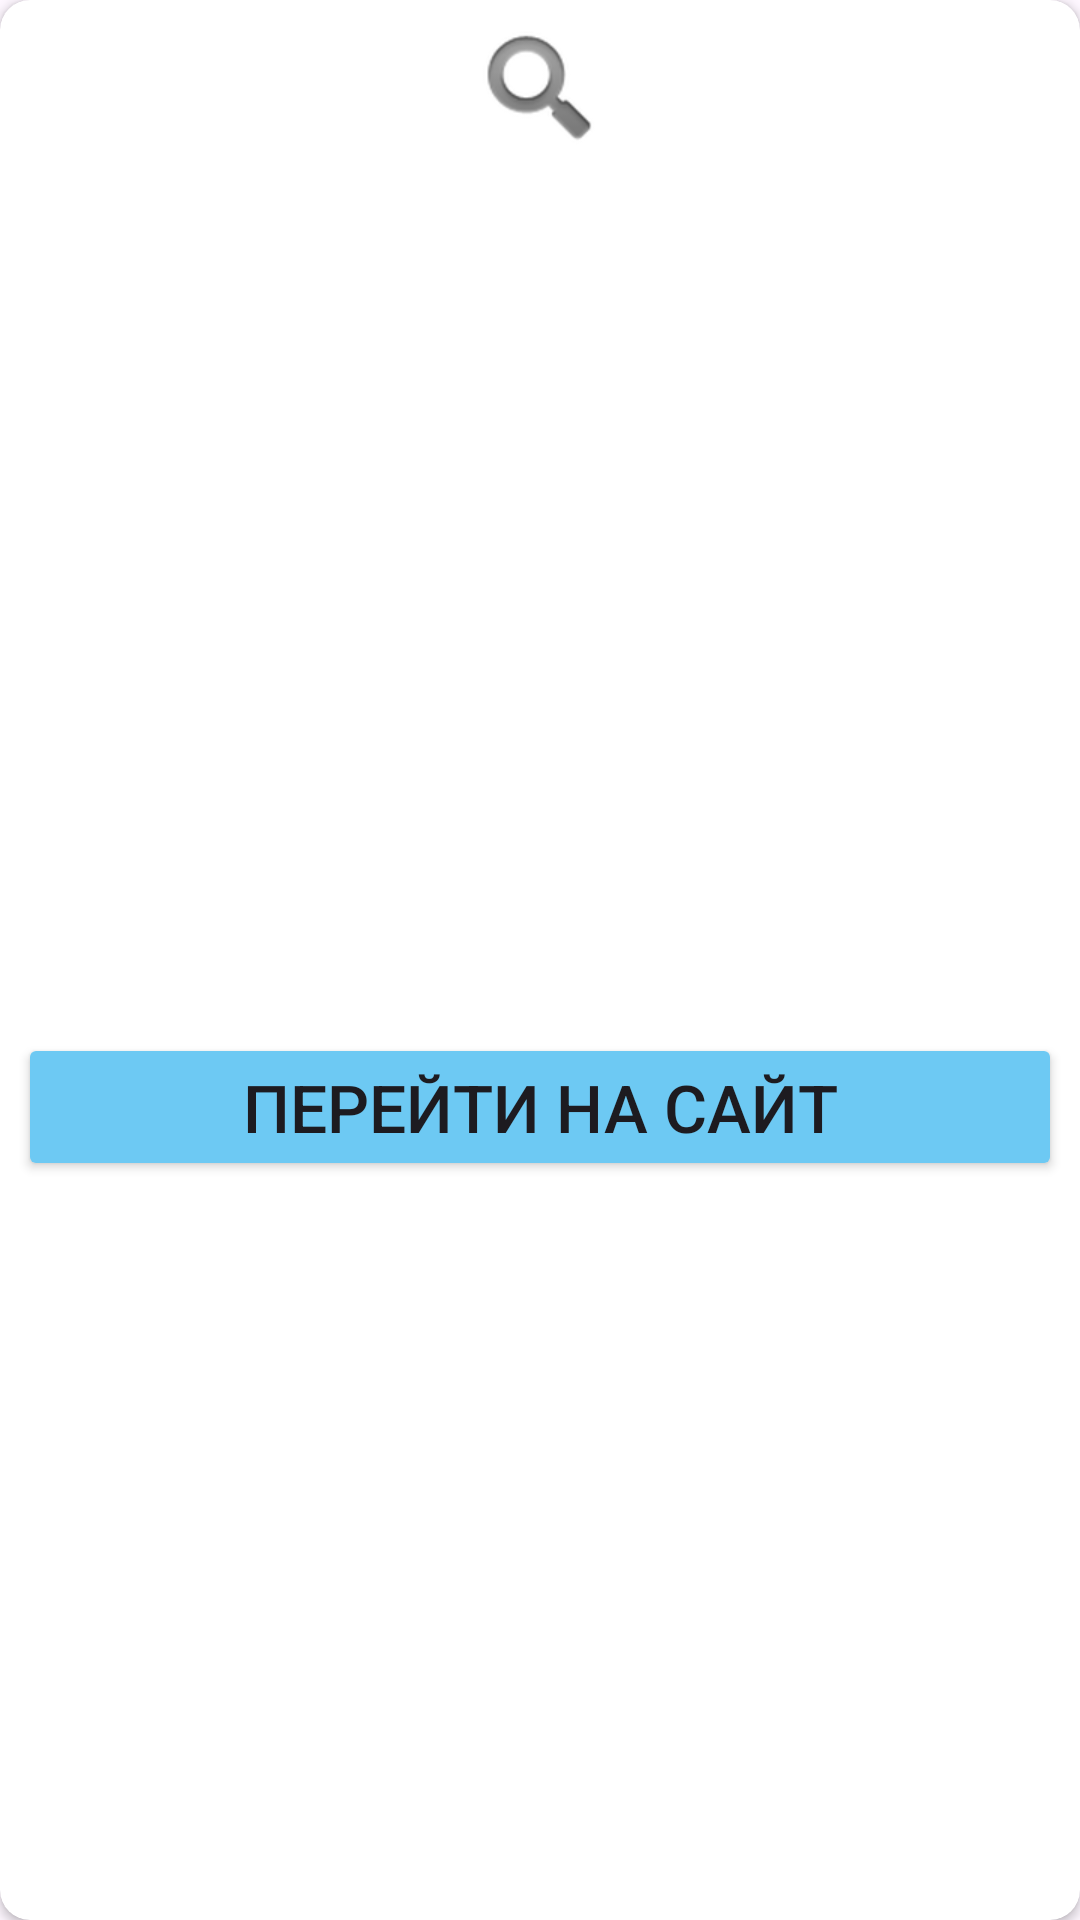

Locate icon controls on the screen. Image size 1080 × 1920, boxes as (x1, y1, x2, y2).
search category: (487, 35, 591, 139)
